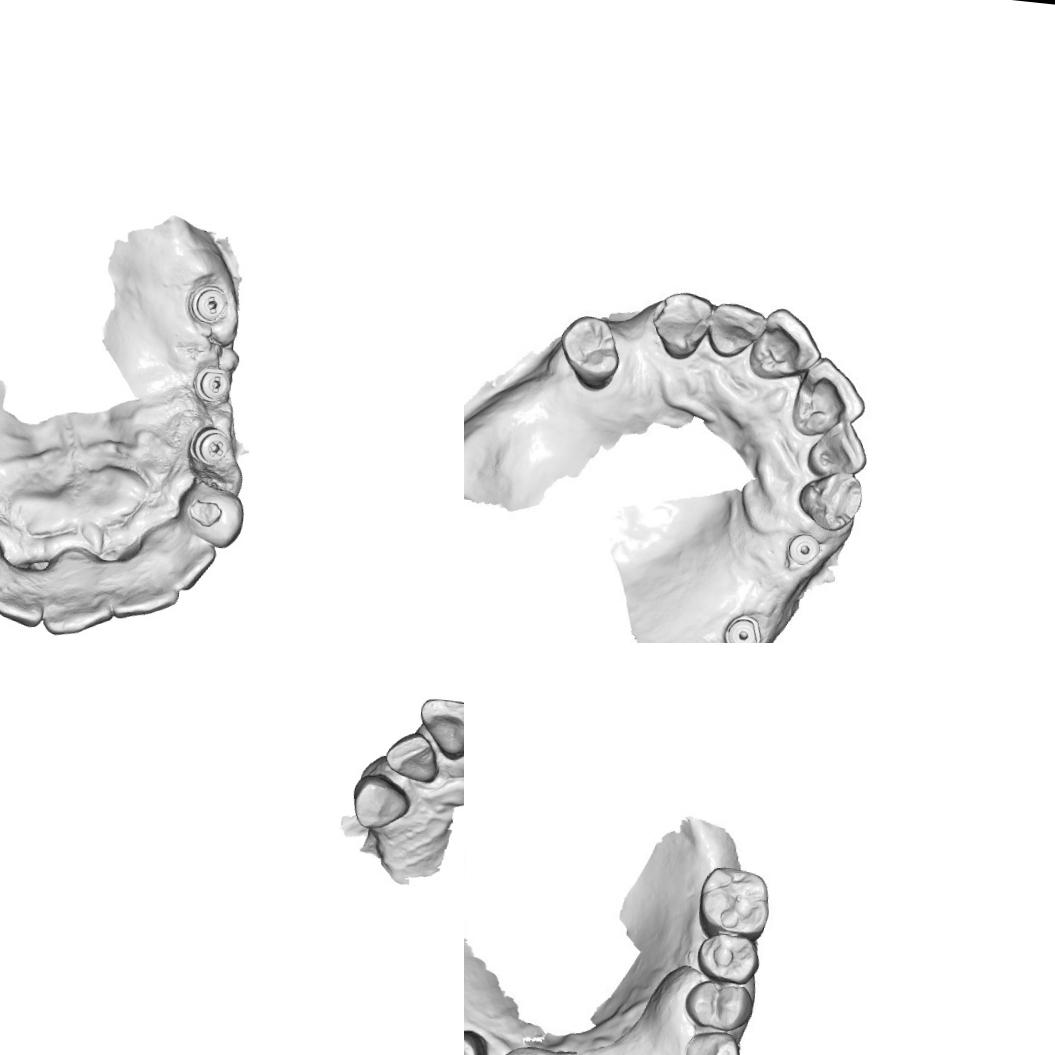canine: (176, 476, 250, 553), (647, 284, 714, 364), (792, 470, 866, 533), (347, 770, 414, 836), (678, 1024, 744, 1055)
implant: (785, 528, 825, 573), (720, 611, 769, 643)
implant_minus: (187, 280, 234, 328), (188, 362, 236, 408)
implant_plus: (184, 422, 236, 469)
incisor: (36, 549, 118, 642), (104, 548, 184, 626), (797, 358, 869, 438), (146, 526, 219, 596), (754, 307, 821, 383), (809, 419, 870, 482), (382, 728, 448, 786), (413, 690, 464, 764), (706, 298, 766, 360), (0, 566, 51, 632)
molar: (694, 864, 774, 940)
premolar: (556, 308, 624, 394), (679, 975, 756, 1038), (691, 924, 763, 986)
